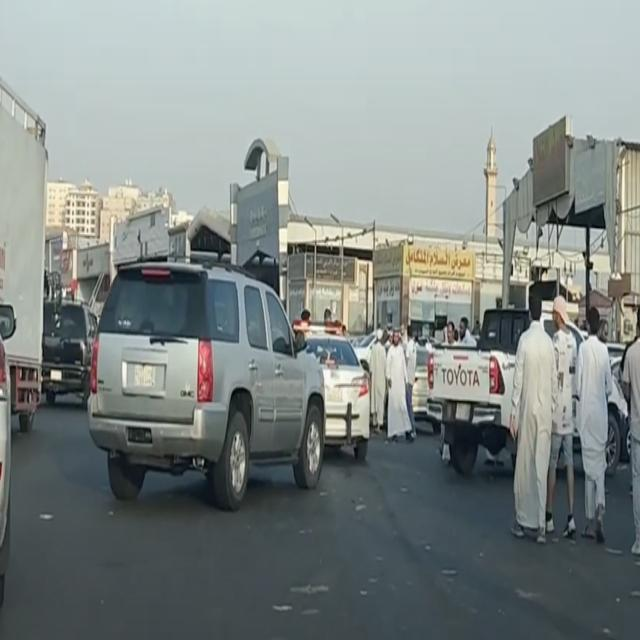license_plate: (133, 365, 155, 388), (454, 403, 470, 422), (326, 388, 342, 403), (51, 371, 62, 380), (422, 378, 428, 388)
